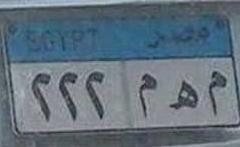2: (83, 70, 110, 125), (55, 69, 81, 123), (29, 67, 54, 123)
haa: (168, 73, 200, 117)
meem: (205, 66, 230, 119), (135, 70, 158, 123)
